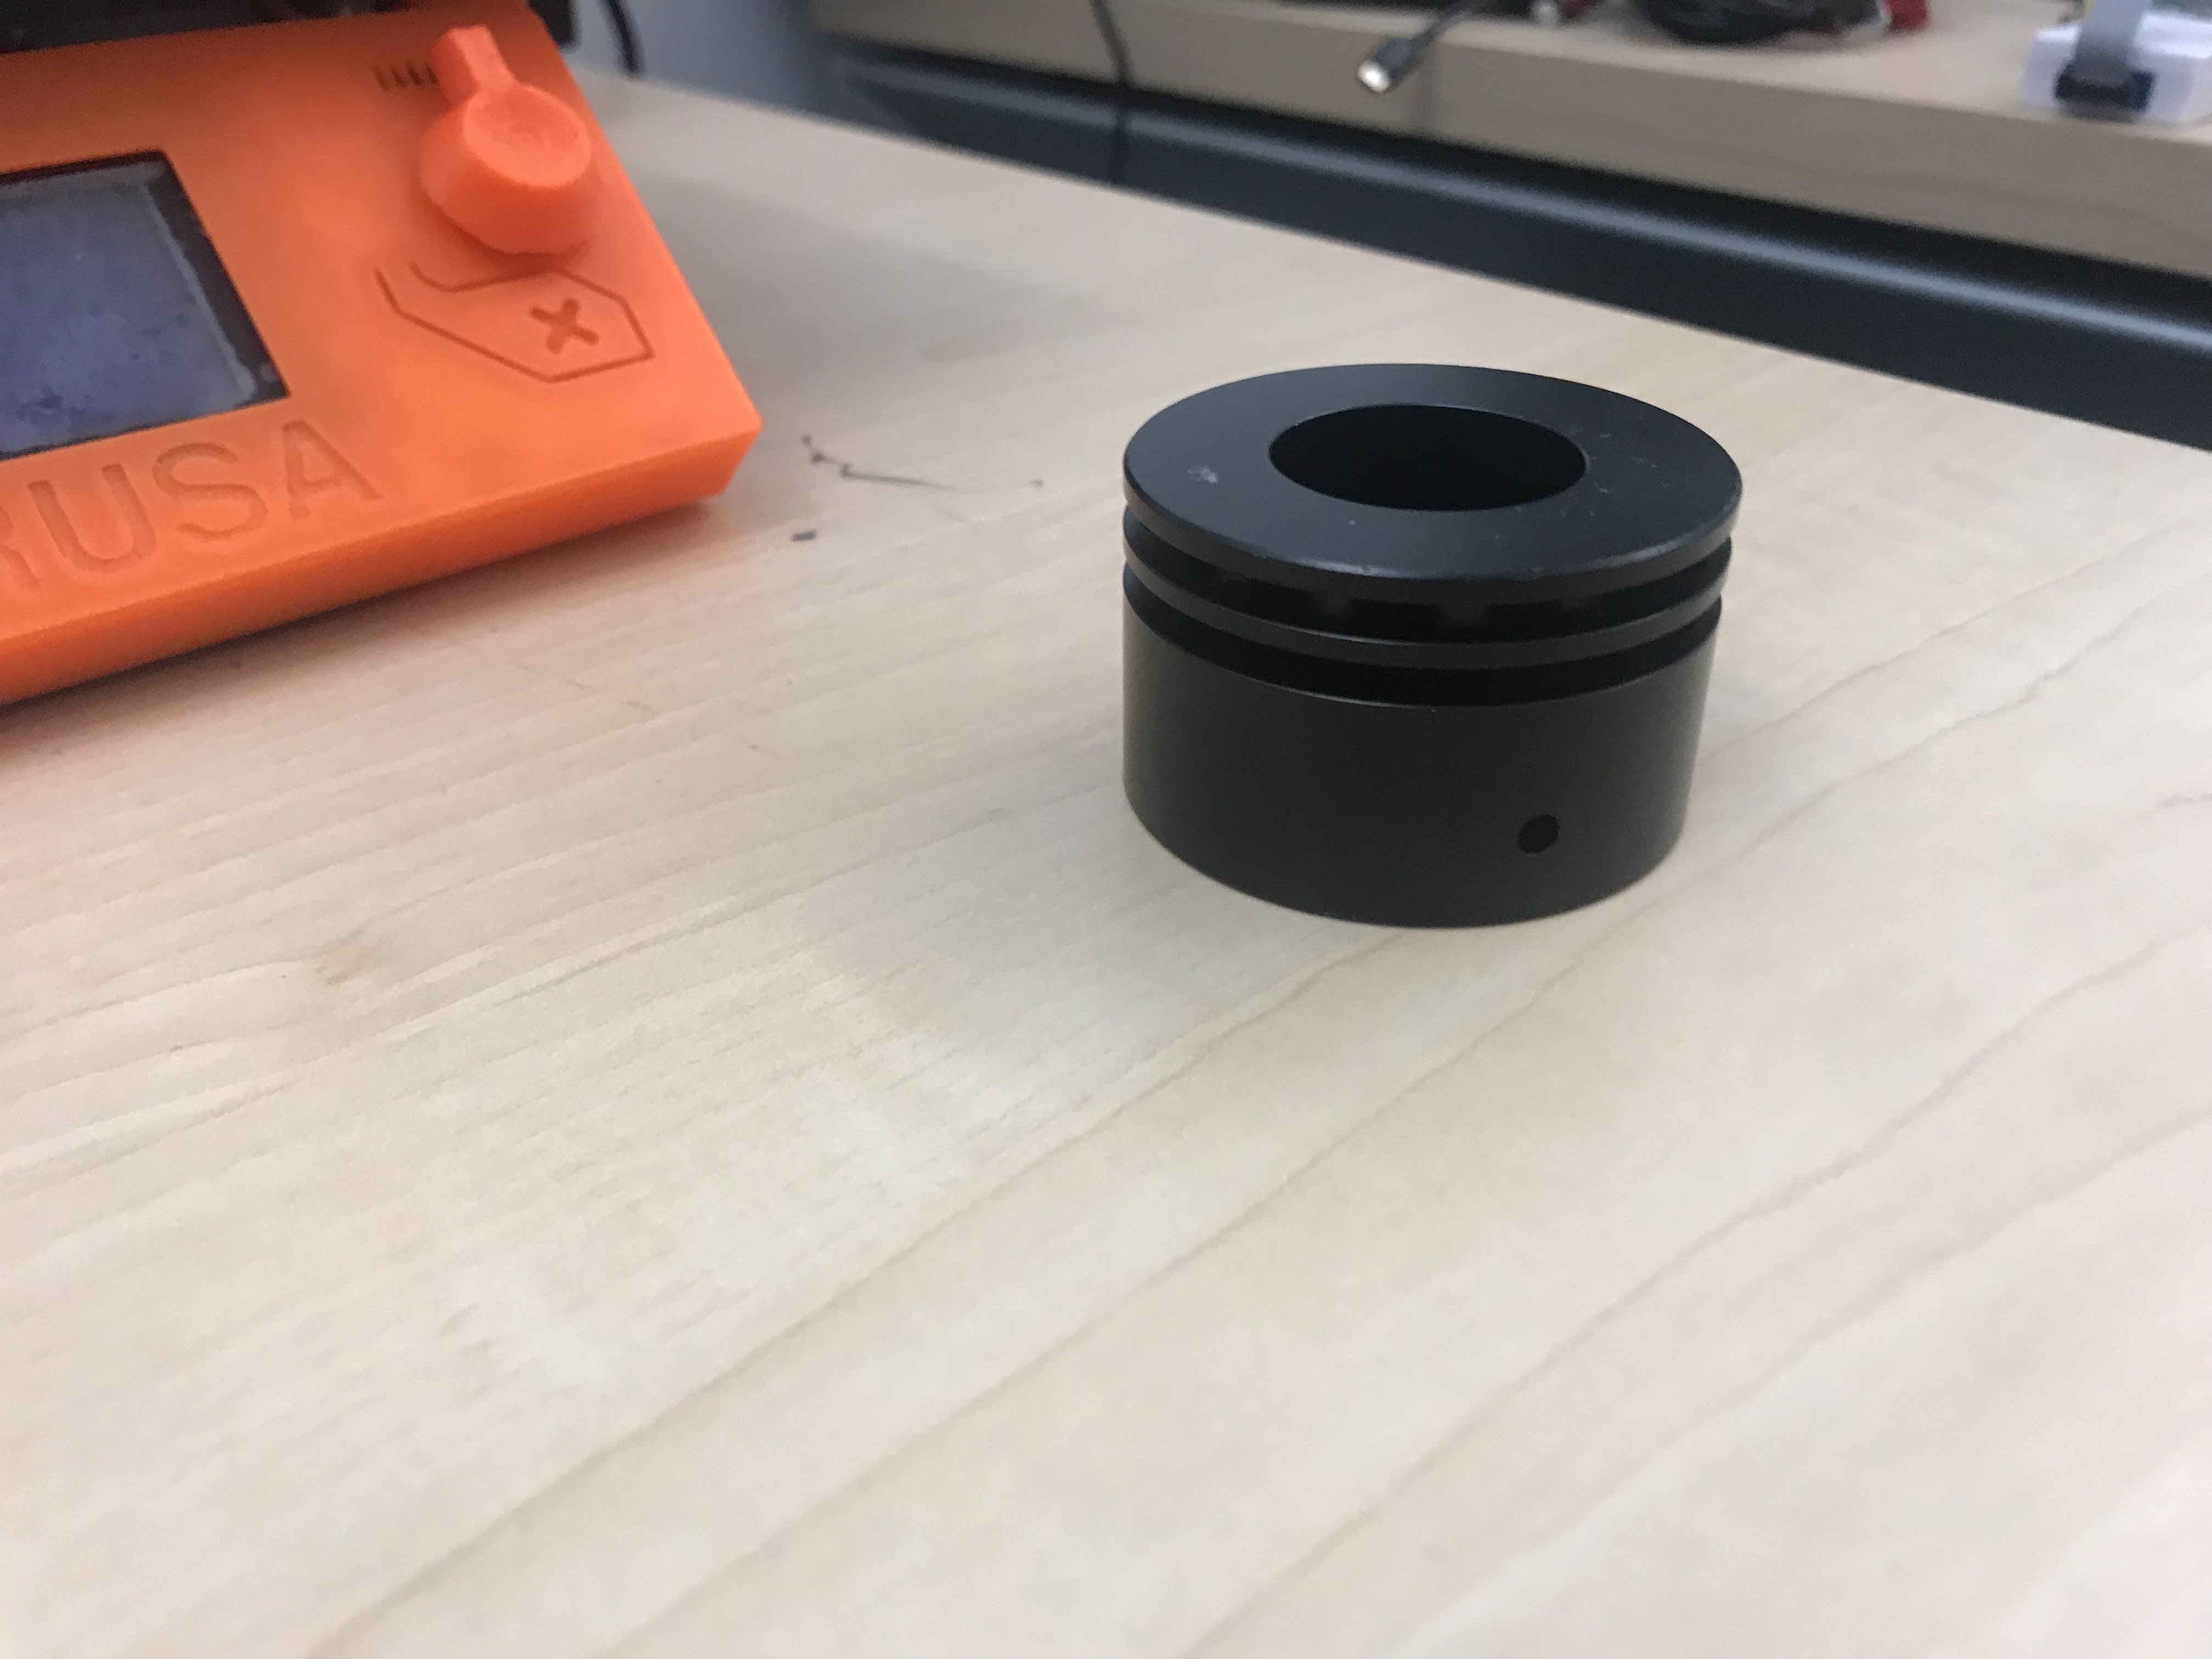pillar1: (1103, 350, 1754, 948)
